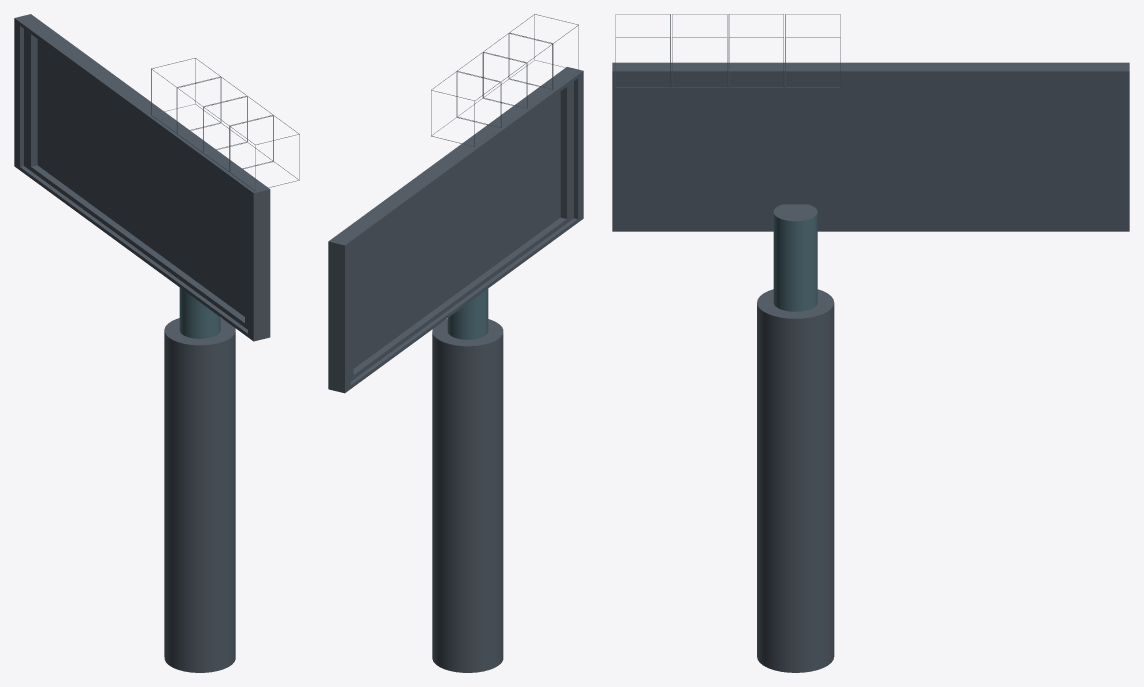
Rendered from BillBoardLarge.fbx.
3 views of the same model, side by side, from view 1: azimuth 30°, elevation 25°; view 2: azimuth 150°, elevation 25°; view 3: azimuth 270°, elevation 25° (orthographic). The views are drawn at different scales.
Parts seen in each view (by area): view 1: BillBoard; view 2: BillBoard; view 3: BillBoard.
Boxes of the visible parts, x1,y1,x2,y2 form: BillBoard: (14, 14, 299, 672); BillBoard: (328, 14, 583, 672); BillBoard: (612, 14, 1129, 672).
Size of the model in its own units: 154 by 1375 by 1027.
